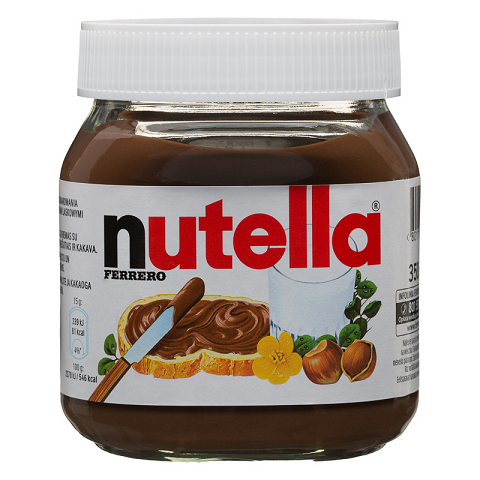nutella: (59, 14, 422, 463)
